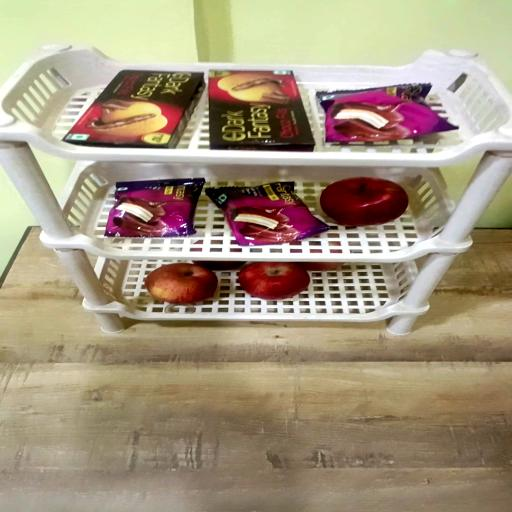Apple: (320, 179, 408, 229), (143, 264, 216, 305), (240, 263, 310, 300), (193, 262, 246, 272), (298, 262, 344, 272)
Choco Fills: (62, 69, 205, 148), (210, 68, 316, 150)
Choco Pie: (317, 82, 457, 143), (208, 184, 331, 248), (104, 180, 203, 239)
